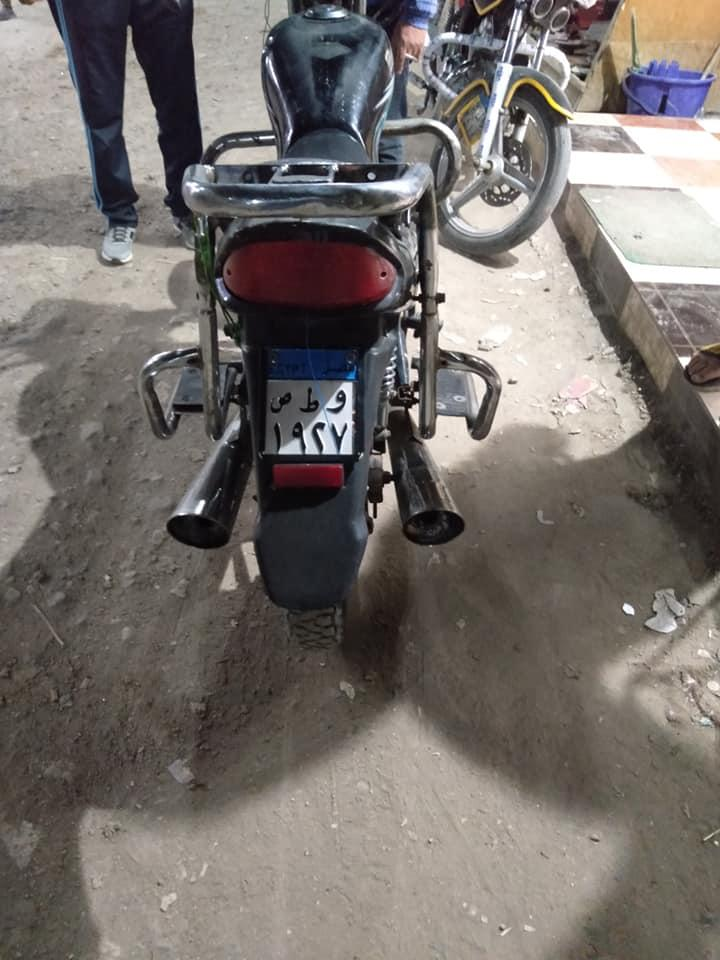License Plate: (264, 338, 362, 464)
